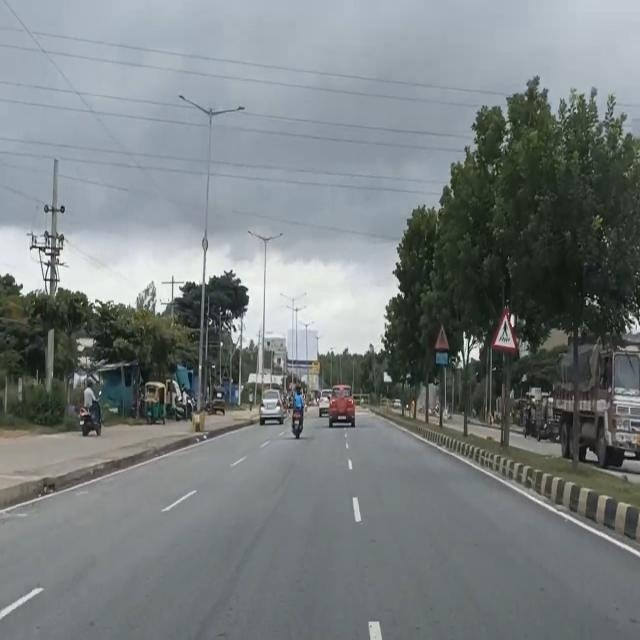bien_nguy_hiem: (490, 305, 520, 354), (433, 321, 450, 351)
